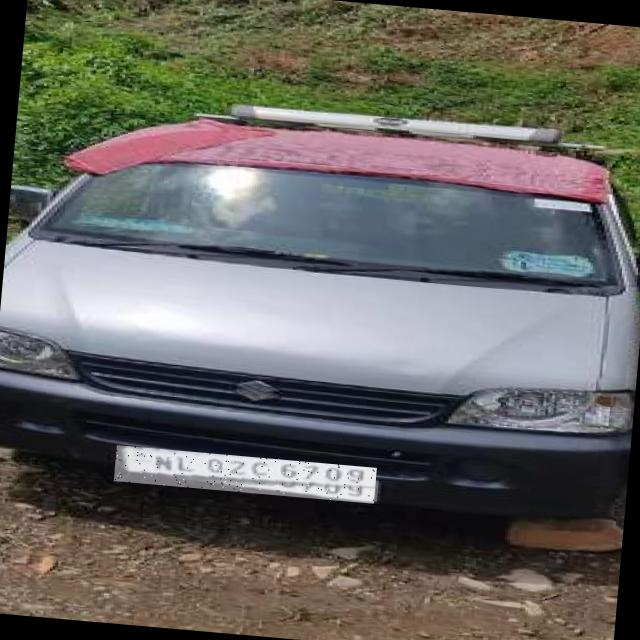Plate: (115, 446, 378, 505)
